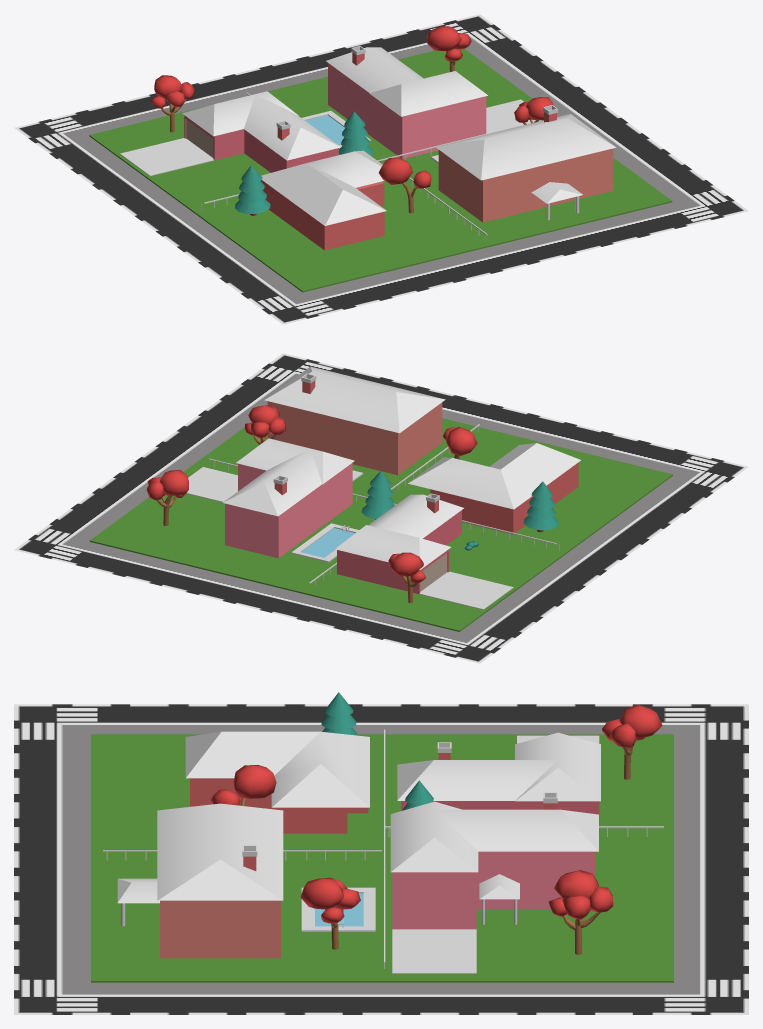
File: Houses_BO.fbx
The picture shows the model from 3 angles, top to bottom: view 1: azimuth 30°, elevation 25°; view 2: azimuth 150°, elevation 25°; view 3: azimuth 270°, elevation 25°; orthographic projection. The views are drawn at different scales.
Visible parts, largest first — view 1: Box012, Box013, Box189, Box190, Box251, Box163, Box264, Box252, Box164, Box159, Box160, Box279 (+12 smaller); view 2: Box012, Box013, Box189, Box190, Box251, Box159, Box160, Box252, Box268, Box267, Box264, Box279 (+11 smaller); view 3: Box012, Box013, Box190, Box251, Box189, Box160, Box264, Box163, Box164, Box159, Box268, Box175 (+12 smaller).
Part boxes in pixels (bbox=[...]): Box012: bbox=[14, 14, 748, 324]; Box013: bbox=[89, 48, 672, 292]; Box189: bbox=[438, 148, 613, 222]; Box190: bbox=[435, 114, 616, 180]; Box251: bbox=[261, 150, 386, 225]; Box163: bbox=[376, 96, 486, 158]; Box264: bbox=[244, 94, 340, 160]; Box252: bbox=[261, 180, 384, 250]; Box164: bbox=[369, 71, 487, 116]; Box159: bbox=[328, 63, 399, 156]; Box160: bbox=[326, 47, 423, 92]; Box279: bbox=[120, 138, 214, 176]; Box012: bbox=[14, 353, 748, 663]; Box013: bbox=[89, 418, 672, 631]; Box189: bbox=[267, 401, 442, 475]; Box190: bbox=[264, 366, 445, 433]; Box251: bbox=[408, 443, 580, 509]; Box159: bbox=[225, 466, 350, 558]; Box160: bbox=[223, 448, 321, 516]; Box252: bbox=[453, 462, 578, 534]; Box268: bbox=[335, 525, 451, 569]; Box267: bbox=[337, 549, 449, 593]; Box264: bbox=[369, 494, 463, 538]; Box279: bbox=[419, 571, 513, 609]; Box012: bbox=[14, 704, 748, 1014]; Box013: bbox=[91, 734, 673, 982]; Box190: bbox=[157, 803, 283, 900]; Box251: bbox=[185, 731, 369, 807]; Box189: bbox=[160, 900, 280, 958]; Box160: bbox=[435, 809, 598, 851]; Box264: bbox=[397, 760, 557, 800]; Box163: bbox=[392, 872, 476, 929]; Box164: bbox=[390, 801, 478, 872]; Box159: bbox=[476, 851, 594, 909]; Box268: bbox=[515, 732, 600, 801]; Box175: bbox=[392, 929, 476, 973].
Bounding box in the file's own units: 1000 × 146 × 1000.
